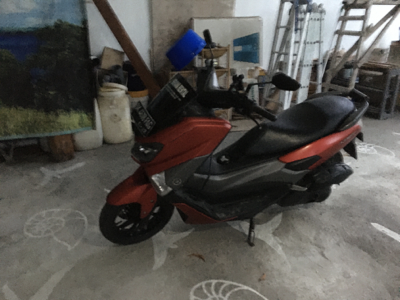moto: (96, 59, 359, 246)
